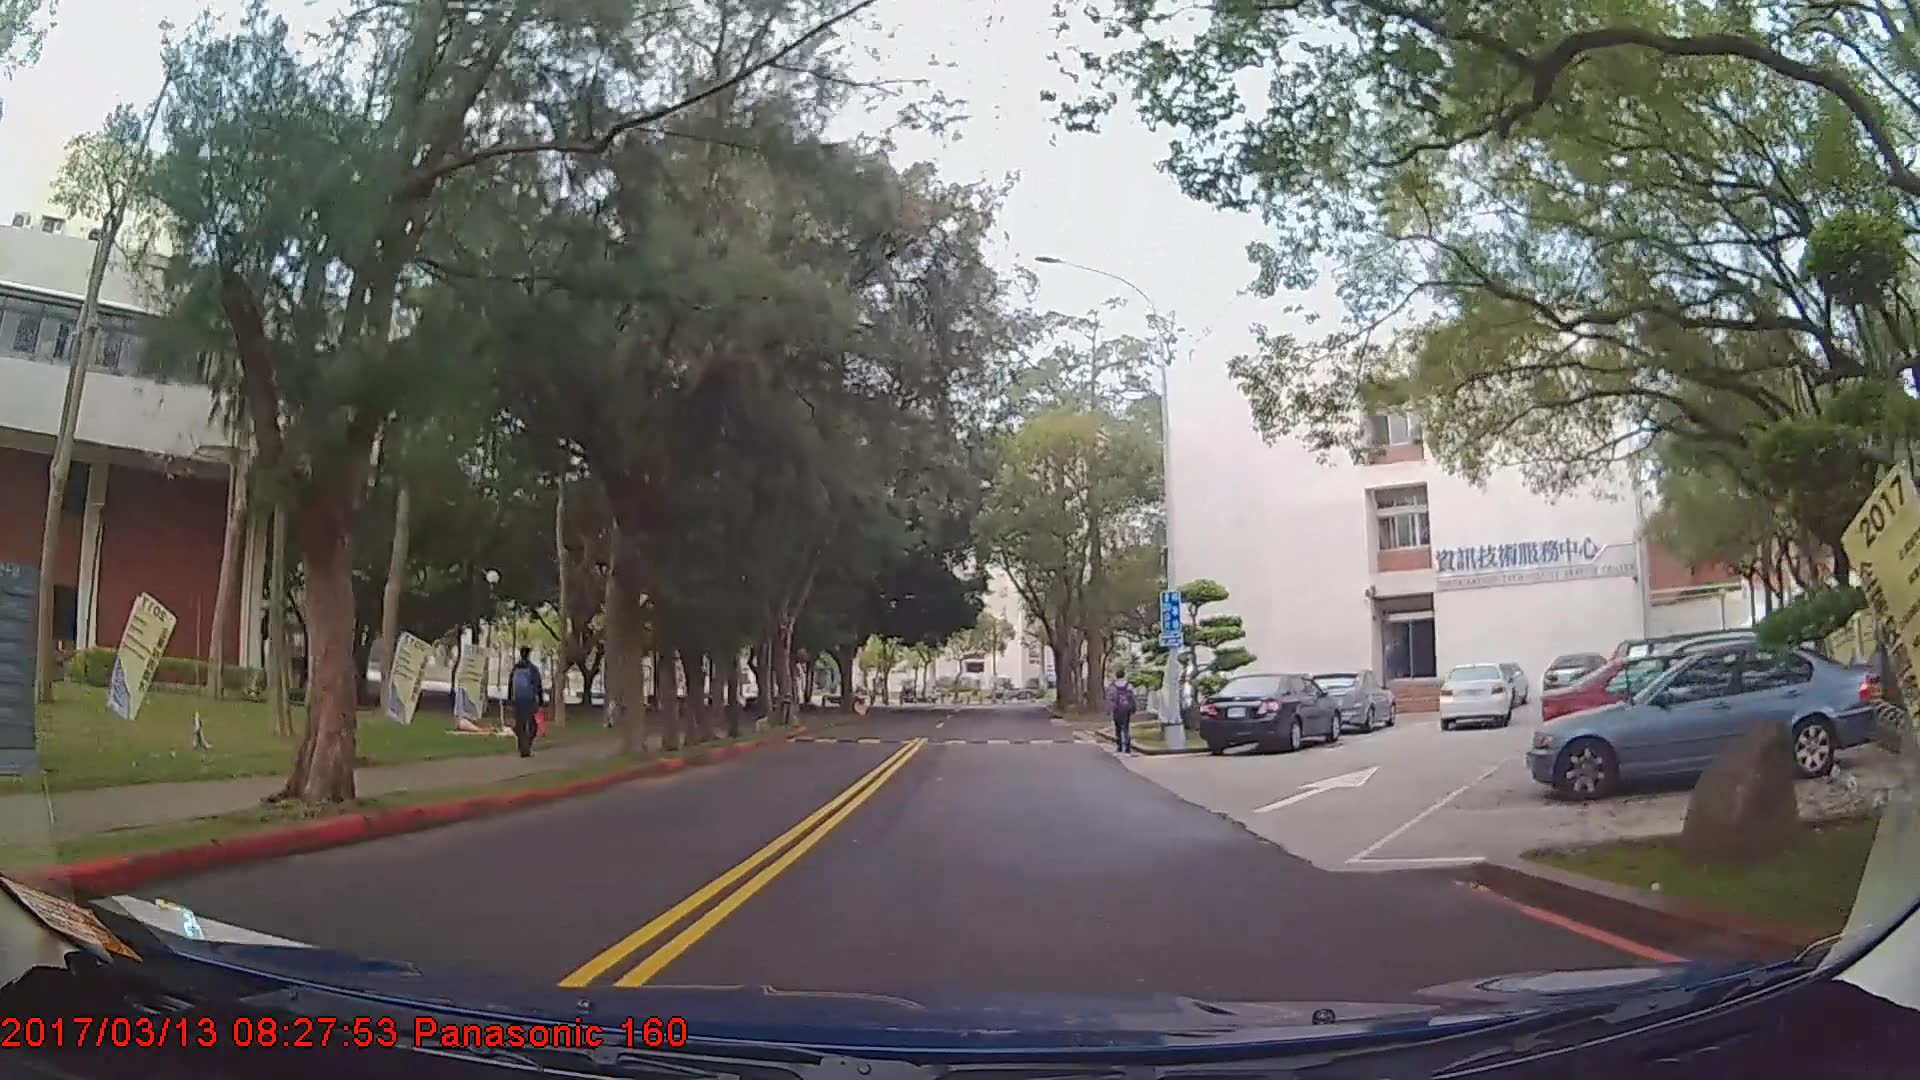pedestrian: (509, 646, 547, 760), (1108, 671, 1138, 756)
vehicle: (1528, 638, 1880, 801), (1538, 648, 1866, 763), (1197, 673, 1340, 757), (1305, 668, 1397, 733), (1440, 662, 1511, 730), (1541, 650, 1606, 702)
